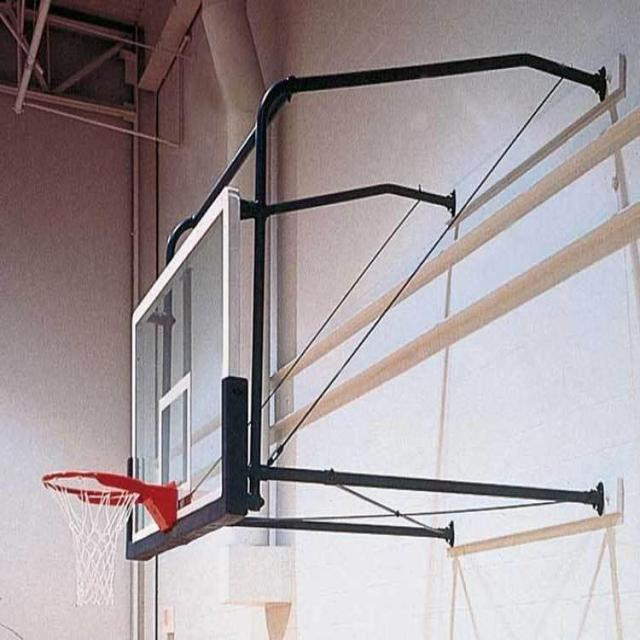hoop: (40, 463, 182, 613)
